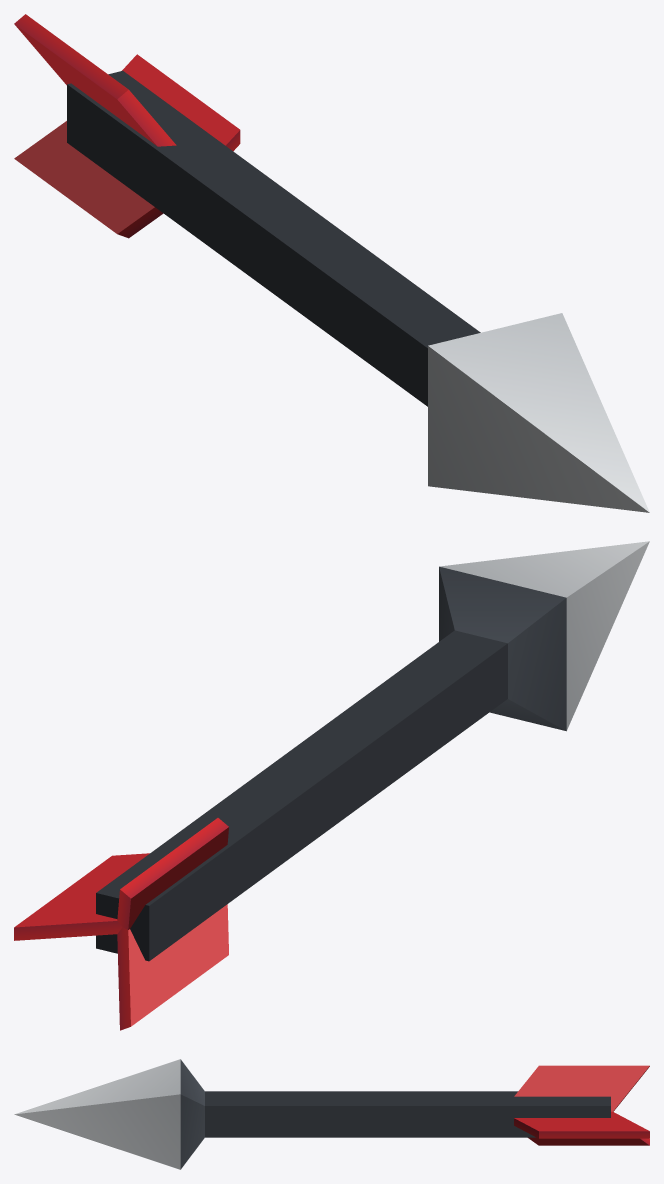
The model's file is ammo_bolt.gltf.
3 views of the same model, one above another, from view 1: azimuth 30°, elevation 25°; view 2: azimuth 150°, elevation 25°; view 3: azimuth 270°, elevation 25° (orthographic). The views are drawn at different scales.
Visible parts, largest first — view 1: ammo_bolt; view 2: ammo_bolt; view 3: ammo_bolt.
Boxes of the visible parts, x1,y1,x2,y2 form: ammo_bolt: (14,14,649,512); ammo_bolt: (14,541,649,1030); ammo_bolt: (14,1059,649,1169).
Size of the model in its own units: 0.1301 by 0.1272 by 0.916.
1 material, 1 textured.
